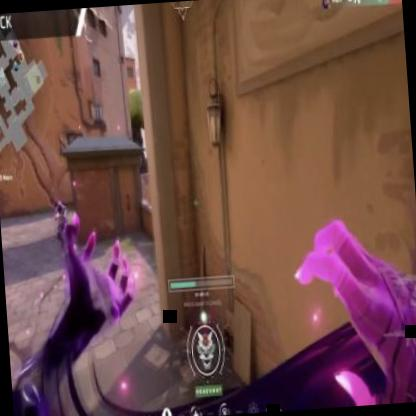enemy: (53, 200, 70, 248)
enemy_head: (57, 200, 62, 210)
